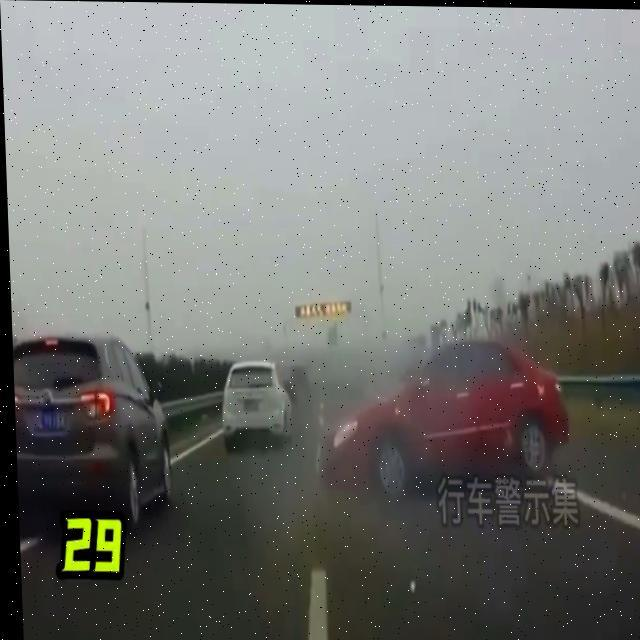normal: (29, 340, 184, 491), (219, 349, 291, 466)
single accident: (319, 374, 601, 519)
